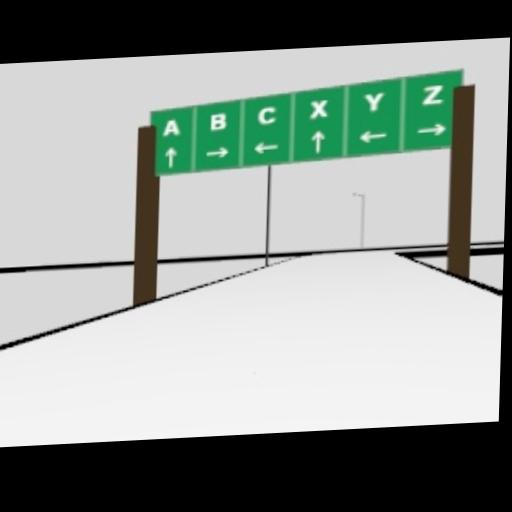A: (163, 119, 179, 135)
B: (209, 111, 225, 130)
C: (257, 105, 275, 125)
Left: (356, 130, 387, 143), (253, 140, 280, 154)
Right: (417, 123, 446, 136), (204, 146, 230, 159)
Straight: (310, 128, 325, 152), (164, 145, 176, 167)
X: (309, 98, 328, 119)
Y: (363, 90, 384, 111)
Z: (422, 83, 443, 104)
